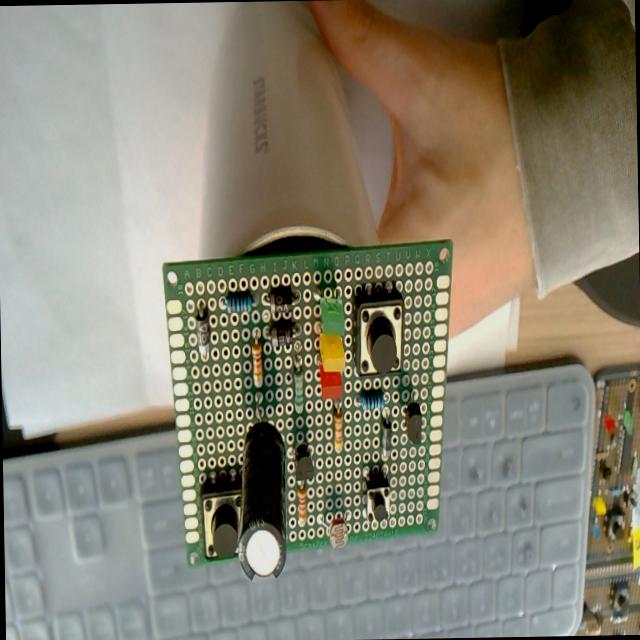Electrolytic capacitor: (235, 420, 289, 580)
cds: (325, 497, 350, 547)
diode: (268, 286, 292, 316), (197, 308, 210, 360), (270, 320, 292, 348), (380, 422, 392, 461)
led: (318, 332, 346, 375), (318, 296, 344, 336), (319, 361, 342, 401)
resistor: (292, 362, 304, 412), (226, 292, 253, 314), (360, 389, 384, 411), (252, 340, 262, 386), (333, 408, 343, 452), (297, 484, 307, 527)
switch: (354, 294, 406, 378), (200, 476, 243, 562), (365, 474, 390, 523)
transistor: (403, 402, 422, 446), (294, 445, 314, 482)
